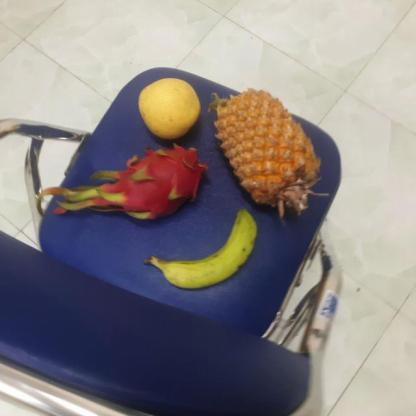banana: (146, 208, 256, 290)
pear: (136, 77, 201, 142)
pineapple: (206, 86, 319, 222)
pitaya: (105, 144, 204, 221)
